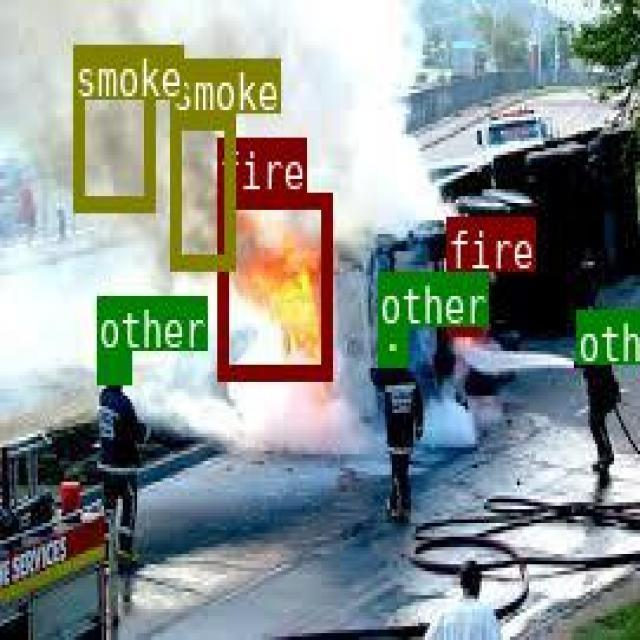fire: (216, 191, 329, 378), (445, 272, 479, 332)
smoke: (72, 42, 152, 210), (170, 112, 234, 265)
